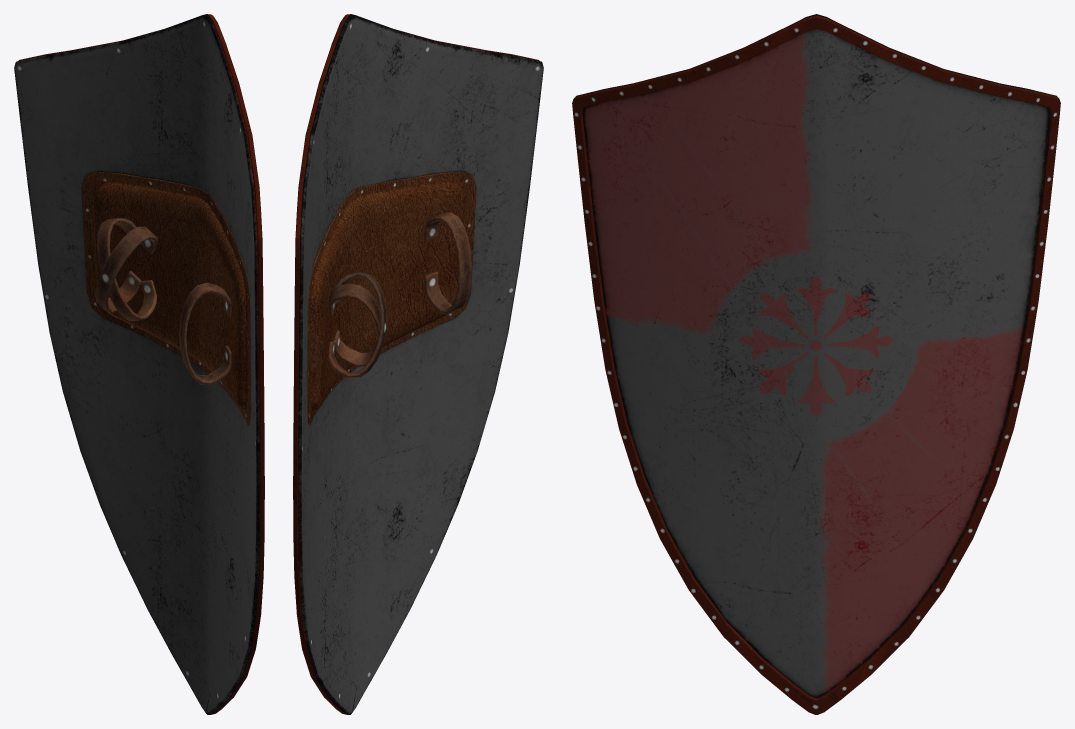
Rendered from medieval_shield.glb.
The picture shows the model from 3 angles, left to right: view 1: azimuth 30°, elevation 25°; view 2: azimuth 150°, elevation 25°; view 3: azimuth 270°, elevation 25°; orthographic projection.
Parts seen in each view (by area): view 1: Cube, Cube_Plate, Cube.003, Cube_Piece, Cube.004; view 2: Cube, Cube_Plate, Cube_Piece, Cube.003, Cube.004; view 3: Cube, Cube_Piece.
Part boxes in pixels (x1,y1,x2,y2): Cube: (14, 15, 260, 714); Cube_Plate: (81, 171, 250, 423); Cube.003: (95, 218, 157, 321); Cube_Piece: (18, 14, 264, 714); Cube.004: (179, 282, 231, 384); Cube: (297, 15, 543, 714); Cube_Plate: (307, 171, 476, 423); Cube_Piece: (293, 14, 539, 714); Cube.003: (328, 272, 386, 377); Cube.004: (424, 212, 471, 314); Cube: (575, 14, 1057, 697); Cube_Piece: (572, 15, 1060, 714).
Bounding box in the file's own units: 0.5623 × 4.78 × 3.03.
Materials: 5 (5 with a texture image).
